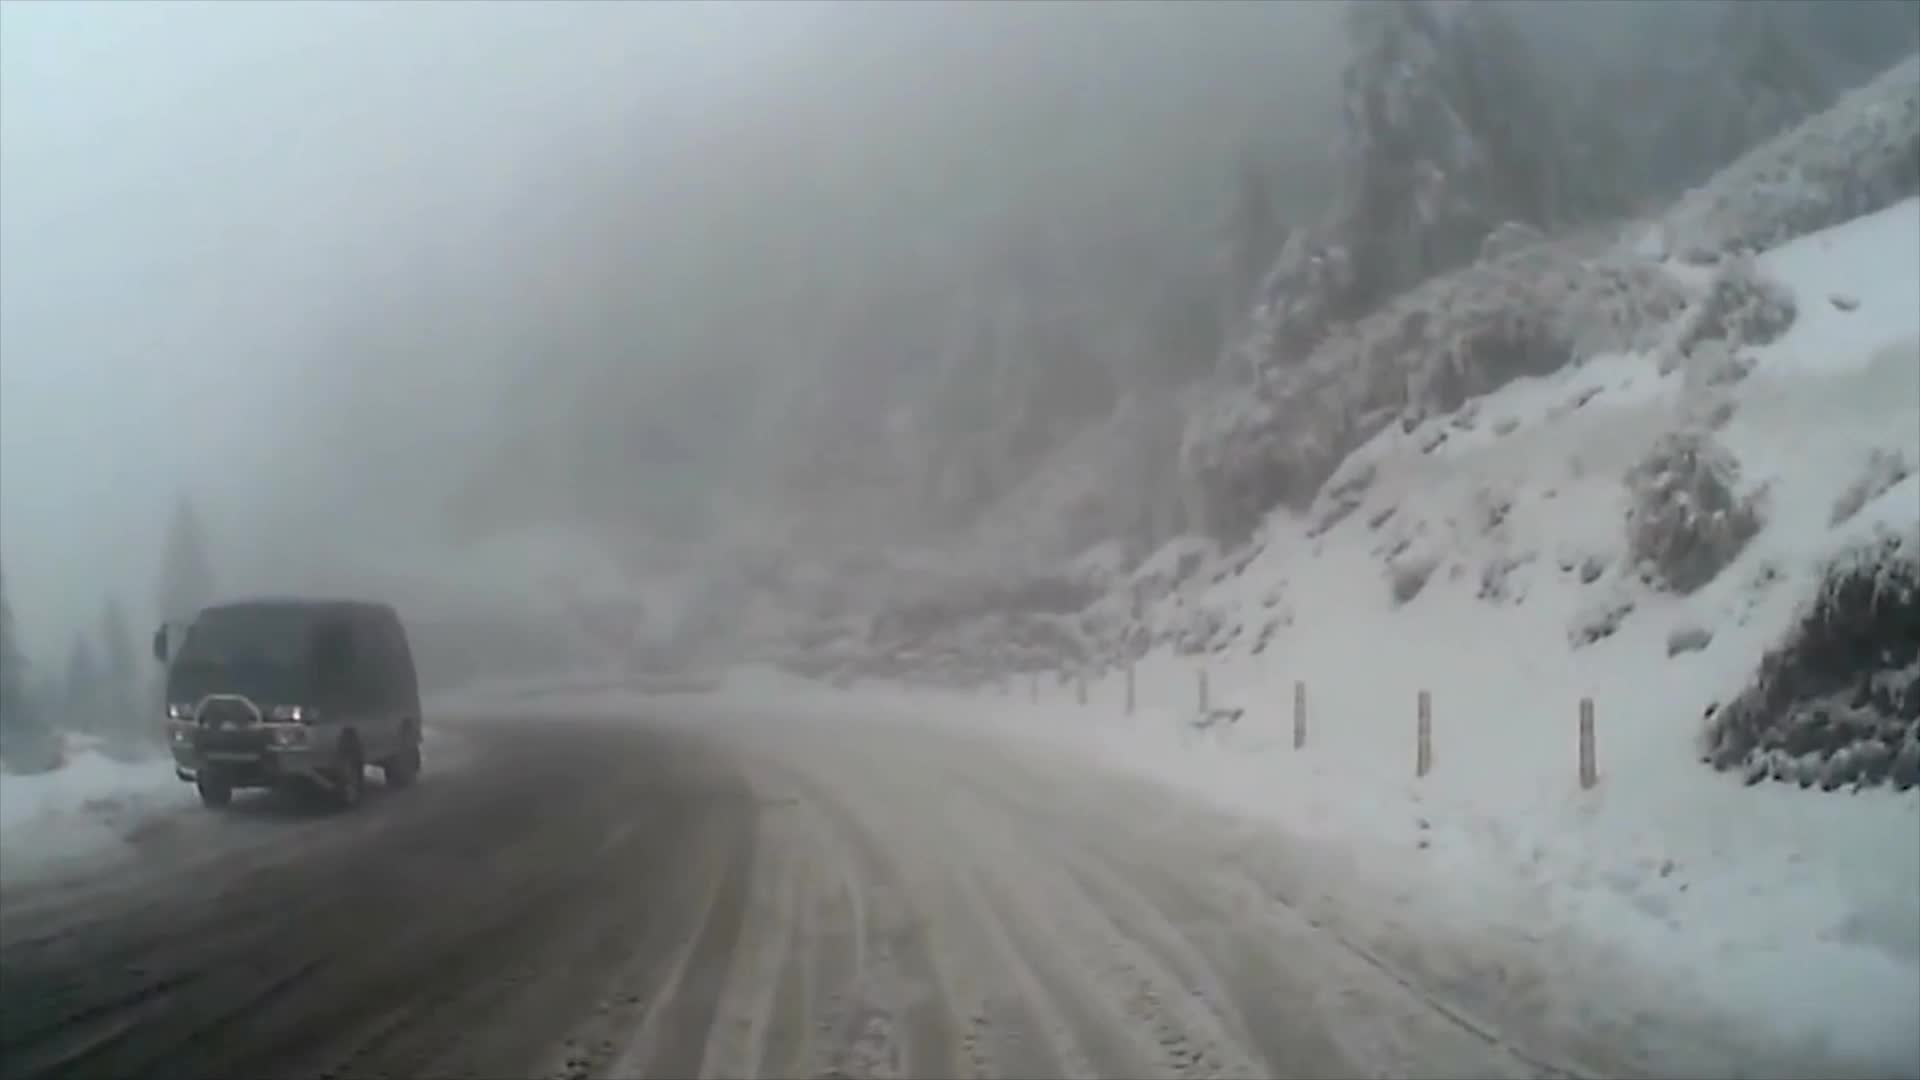vehicle: (148, 597, 421, 815)
